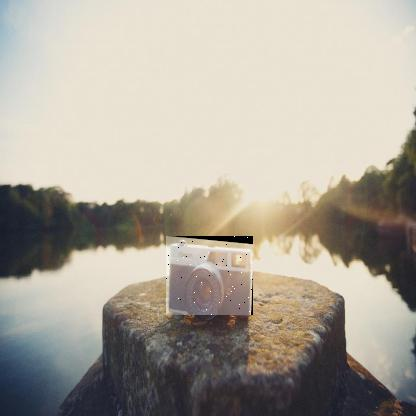Camera: (167, 237, 255, 317)
